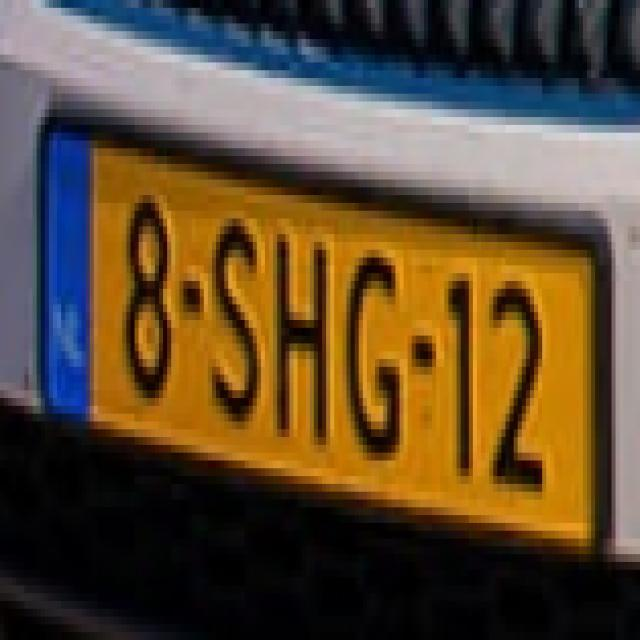1: (442, 268, 480, 497)
8: (115, 176, 176, 405)
G: (344, 238, 410, 462)
H: (270, 208, 332, 449)
S: (204, 196, 262, 434)
